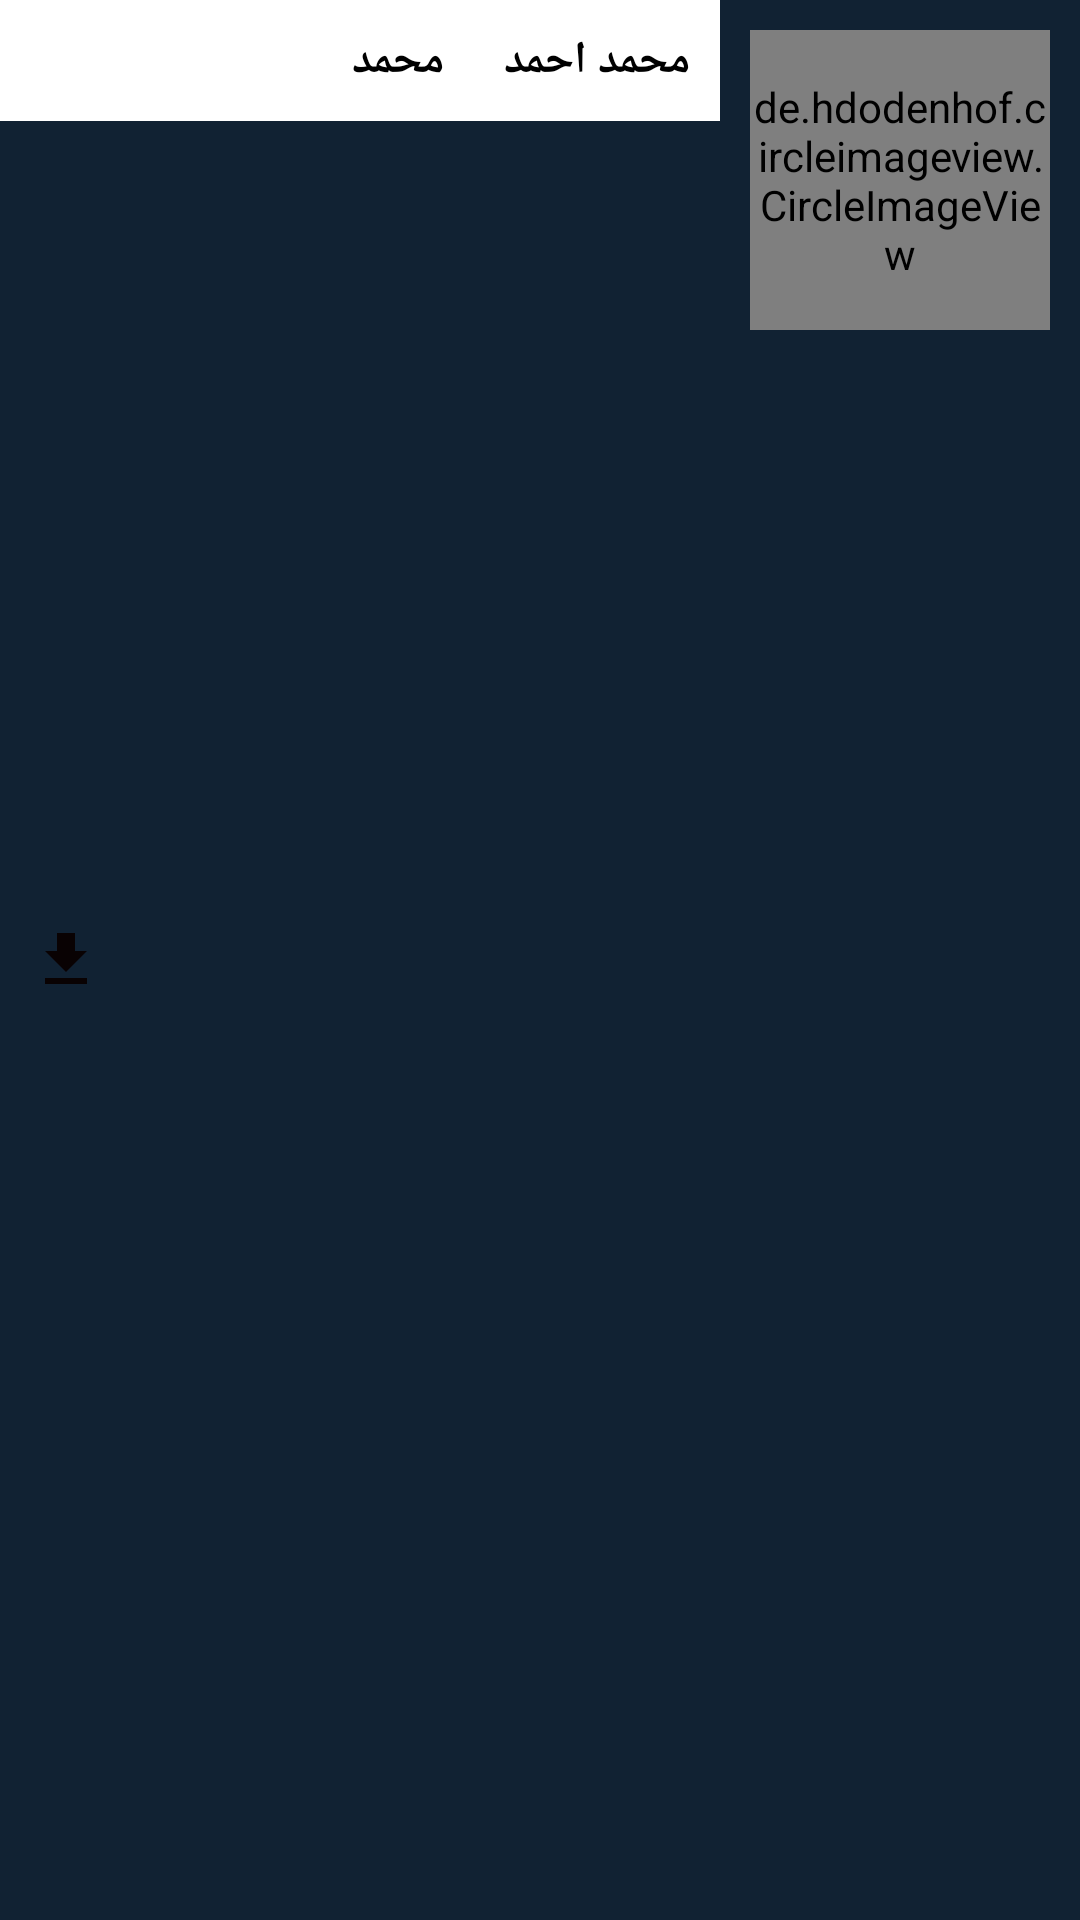

Screen size 1080 × 1920. Icon name, then its center in pixels as (x=x, y=y):
file download: (x=66, y=958)
